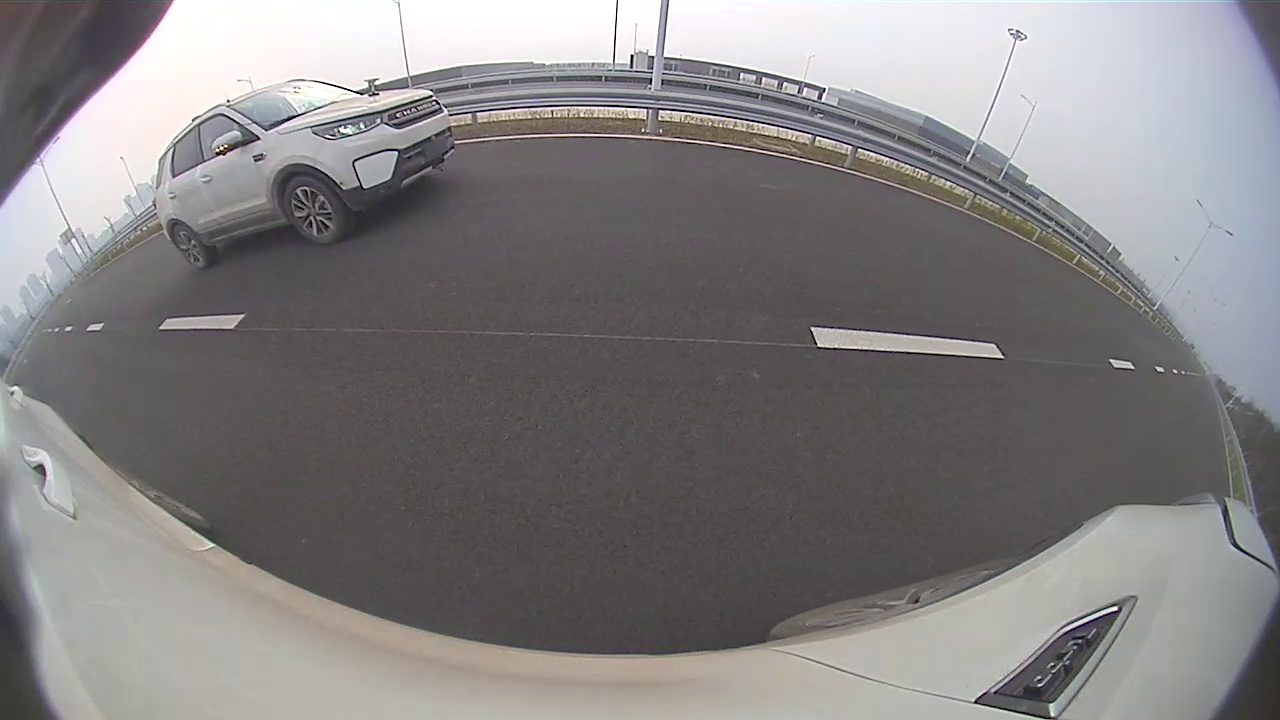car: (153, 79, 456, 270)
front: (281, 176, 347, 251)
rear: (169, 227, 211, 271)
